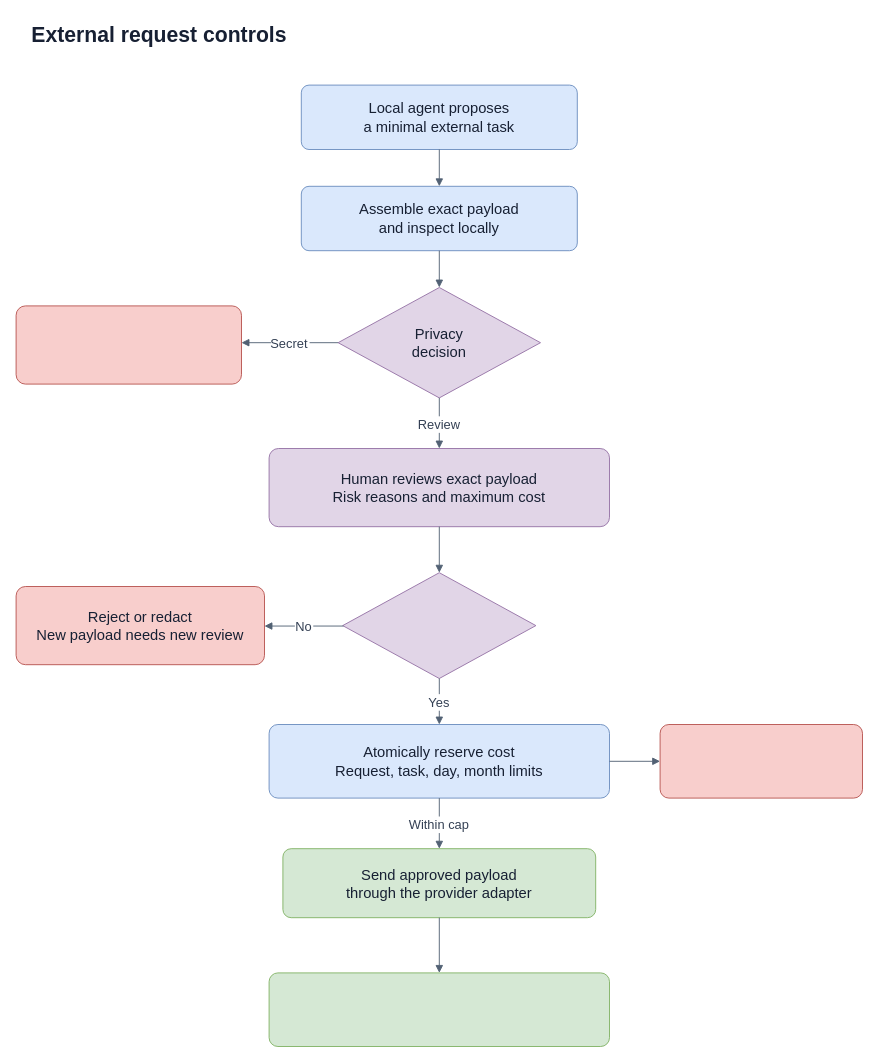
Some shapes in this 879 by 1063 pixel diagram are drawn without their labels. The shapes that lost their labels are listed below. From the top down, each one's box as (x1, y1, x2, y2) in pixels, then its label:
(15, 305, 242, 384): BLOCK No external transmission
(342, 572, 536, 678): Approve this request?
(659, 724, 862, 798): Insufficient allowance Do not dispatch
(268, 972, 610, 1046): Record usage and reconcile Keep uncertain charges reserved
